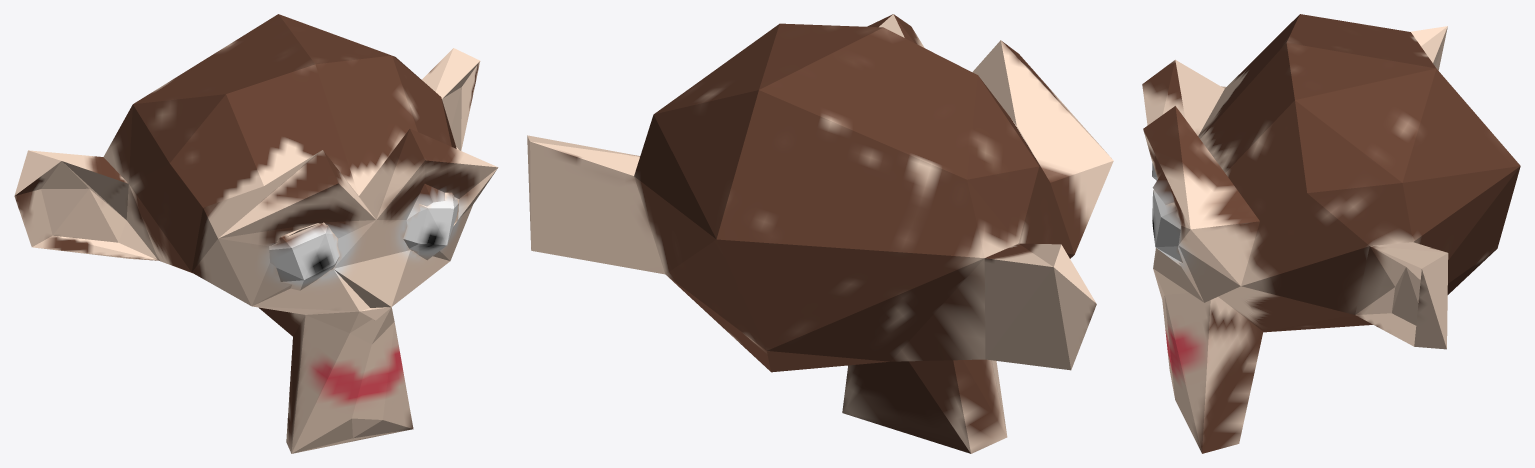
File: monke.fbx
3 views of the same model, side by side, from view 1: azimuth 30°, elevation 25°; view 2: azimuth 150°, elevation 25°; view 3: azimuth 270°, elevation 25° (orthographic). The views are drawn at different scales.
Visible parts, largest first — view 1: Suzanne; view 2: Suzanne; view 3: Suzanne.
Part boxes in pixels (x1,y1,x2,y2): Suzanne: (14, 14, 498, 453); Suzanne: (527, 14, 1113, 453); Suzanne: (1142, 14, 1520, 453).
Size of the model in its own units: 267 by 193 by 174.
